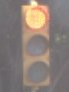Red: (18, 6, 56, 90)
